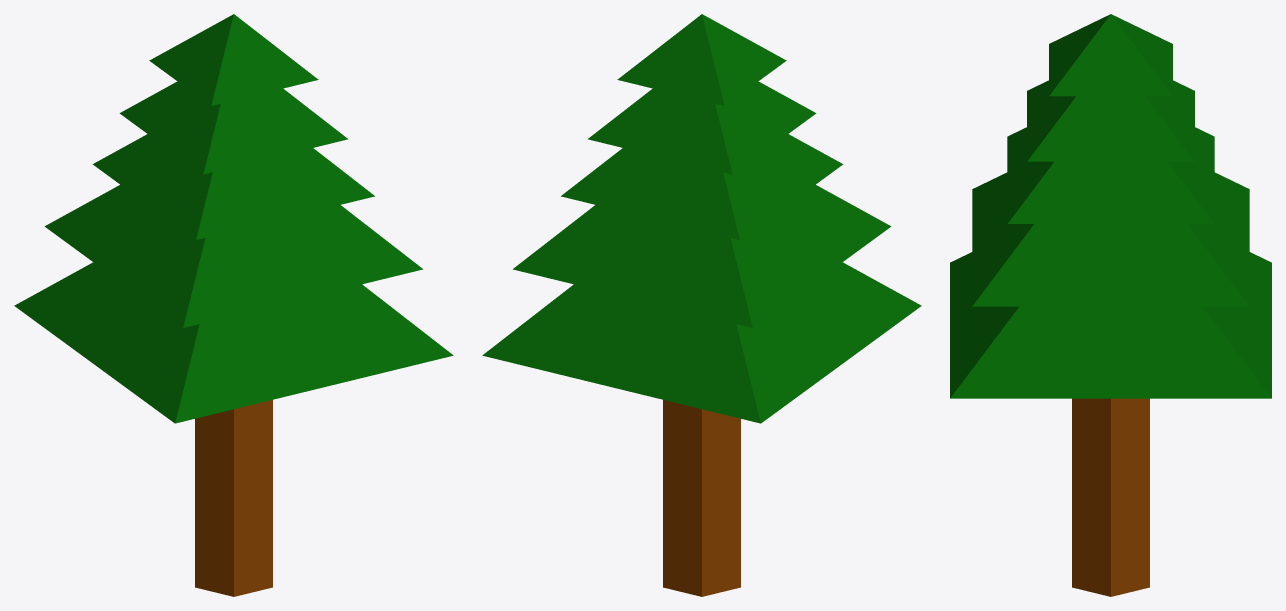
Rendered from tree_6.dae.
3 renders of one model, left to right at view 1: azimuth 30°, elevation 25°; view 2: azimuth 150°, elevation 25°; view 3: azimuth 270°, elevation 25°, orthographic.
Visible parts, largest first — view 1: group_0 (×6); view 2: group_0 (×6); view 3: group_0 (×6).
Boxes of the visible parts, <box> form: group_0 (×6): <box>14,14,453,596</box>; group_0 (×6): <box>482,14,921,596</box>; group_0 (×6): <box>950,14,1271,596</box>.
Bounding box in the file's own units: 245 × 245 × 473.
